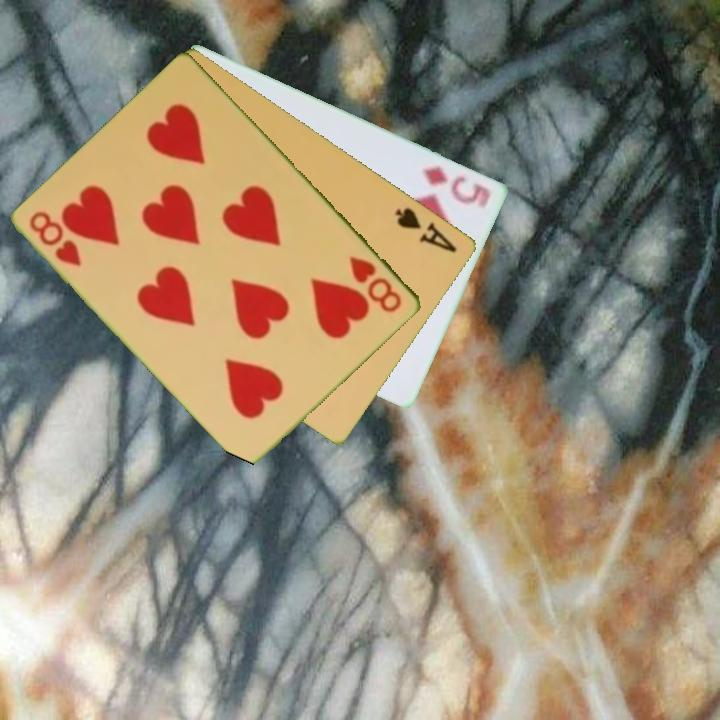5d: (420, 162, 494, 211)
8h: (346, 252, 406, 316), (26, 207, 85, 270)
As: (392, 203, 461, 256)
